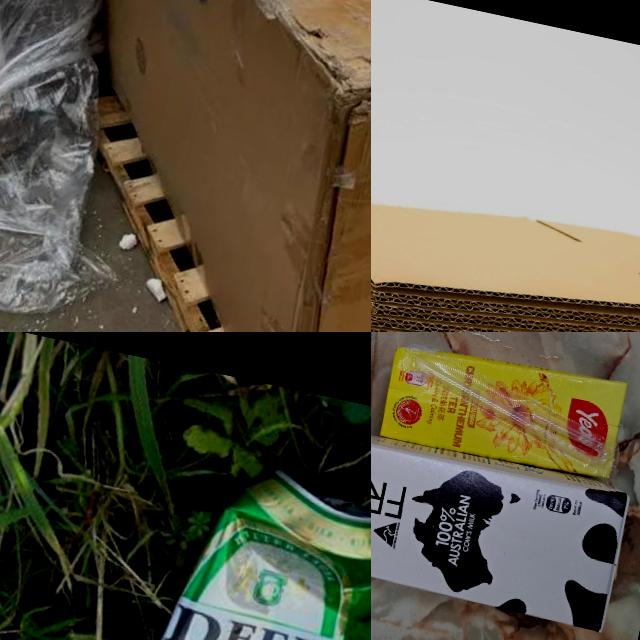caixinha: (371, 405, 636, 634), (378, 335, 632, 482)
lata: (120, 445, 371, 640)
papelão: (0, 0, 371, 332), (371, 152, 640, 332)
